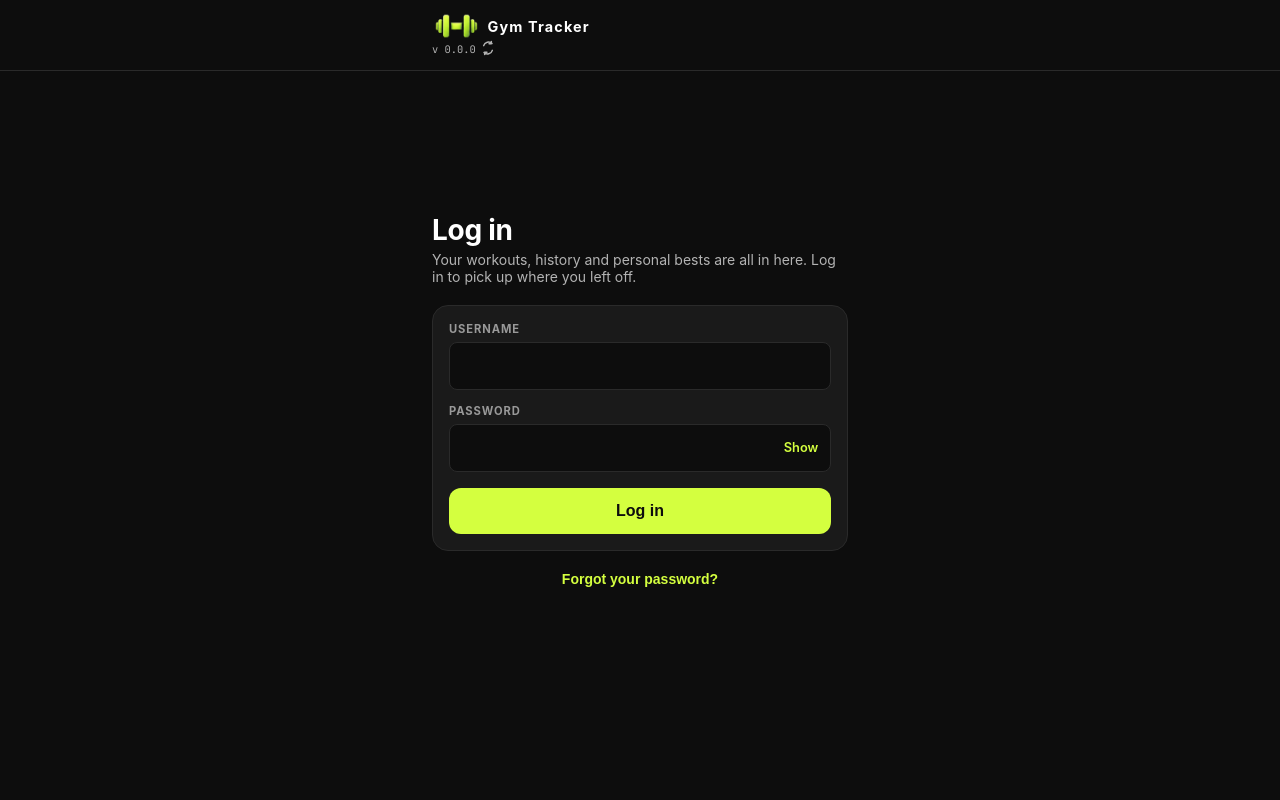
logging in › lands on the app
In the field labelled "Username": (640, 366) [449,342,831,390], type "kapekost"
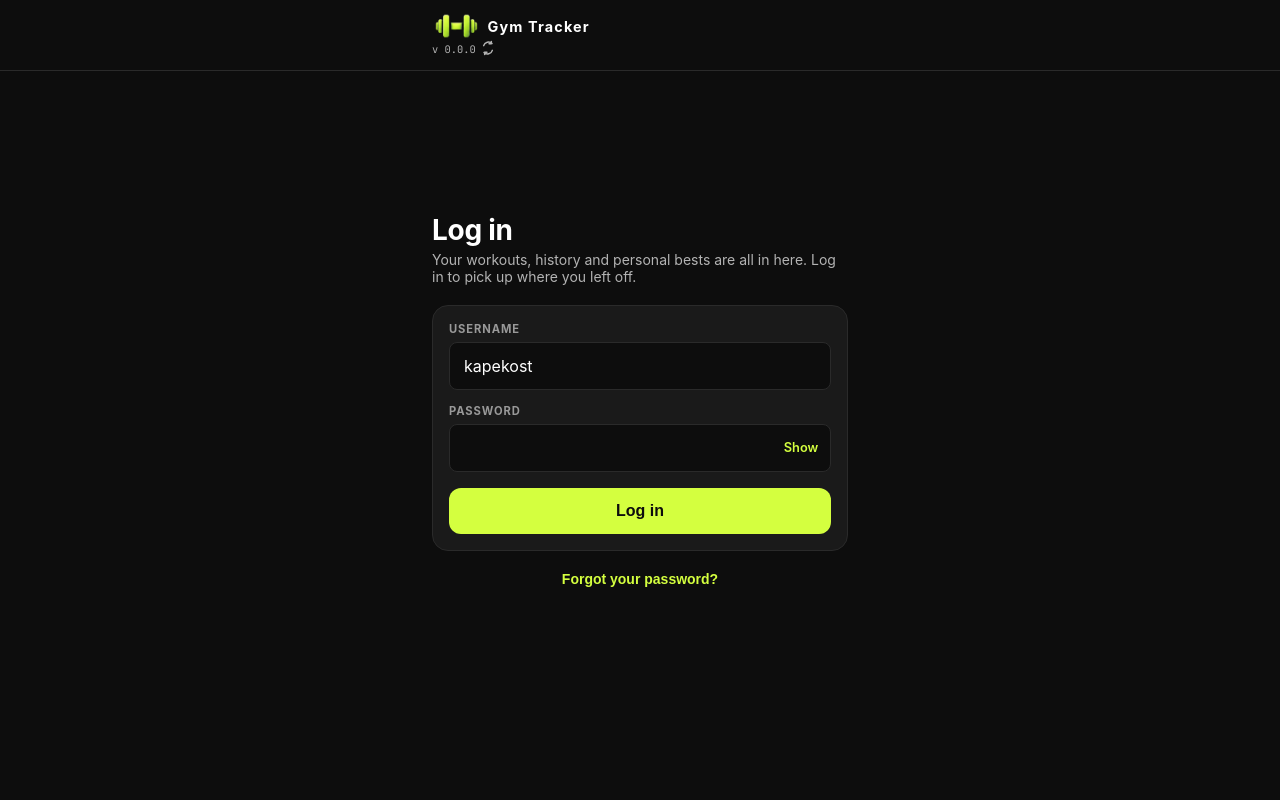
In the password field labelled "Password": (640, 448) [449,424,831,472], type "correct horse battery"
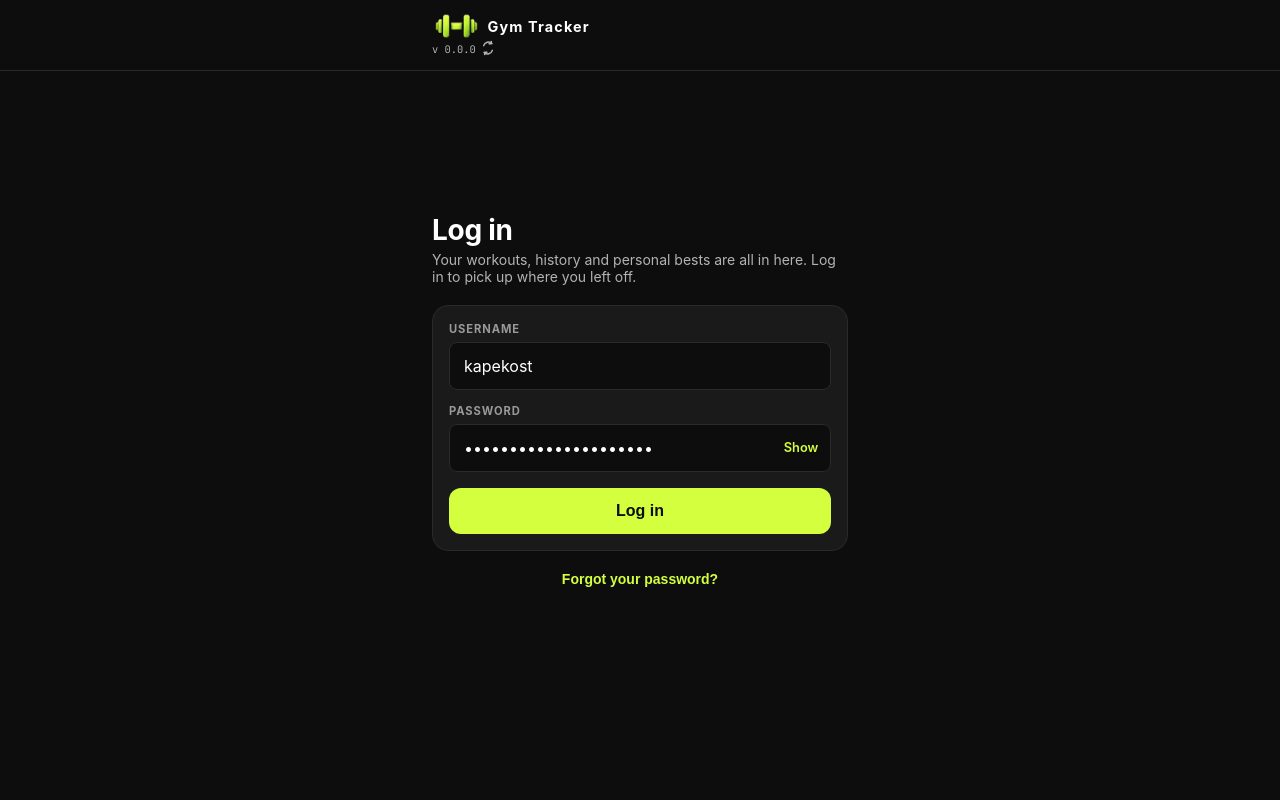
Click the button "Log in": (640, 511) [449,488,831,534]
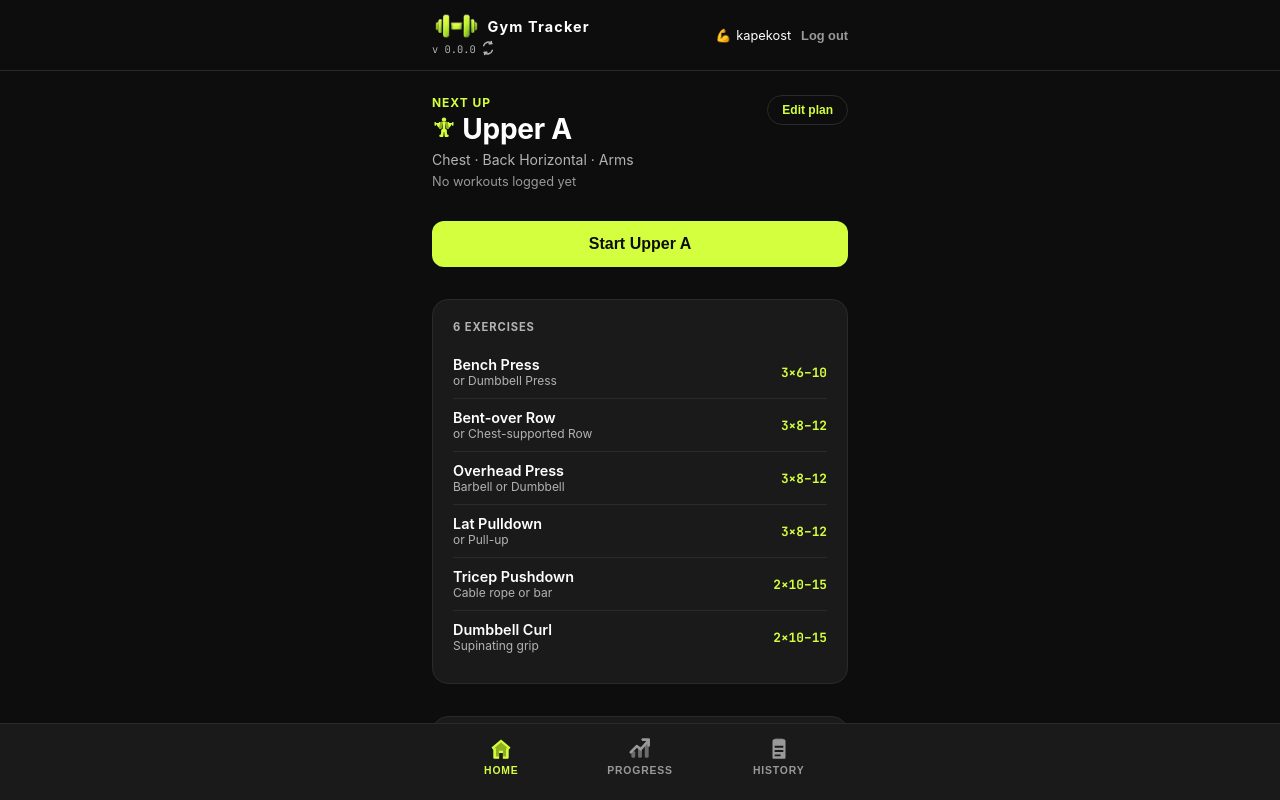
Now the text "Next up" is shown, box [432,95,491,110]
